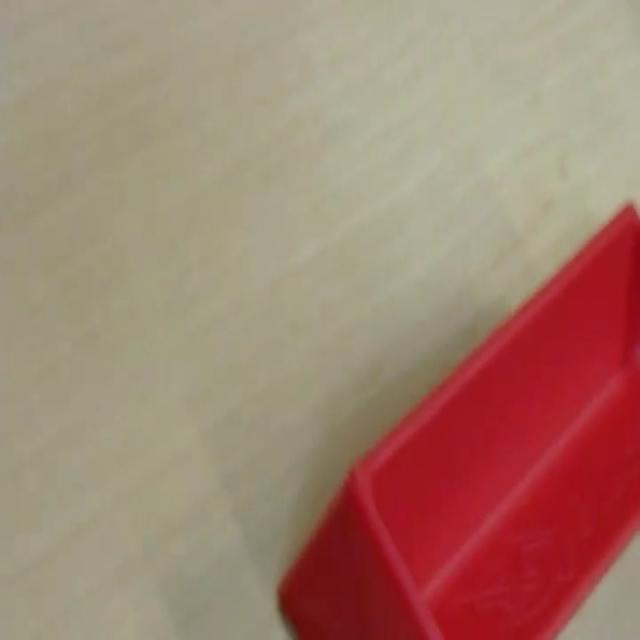red_block: (276, 199, 638, 637)
